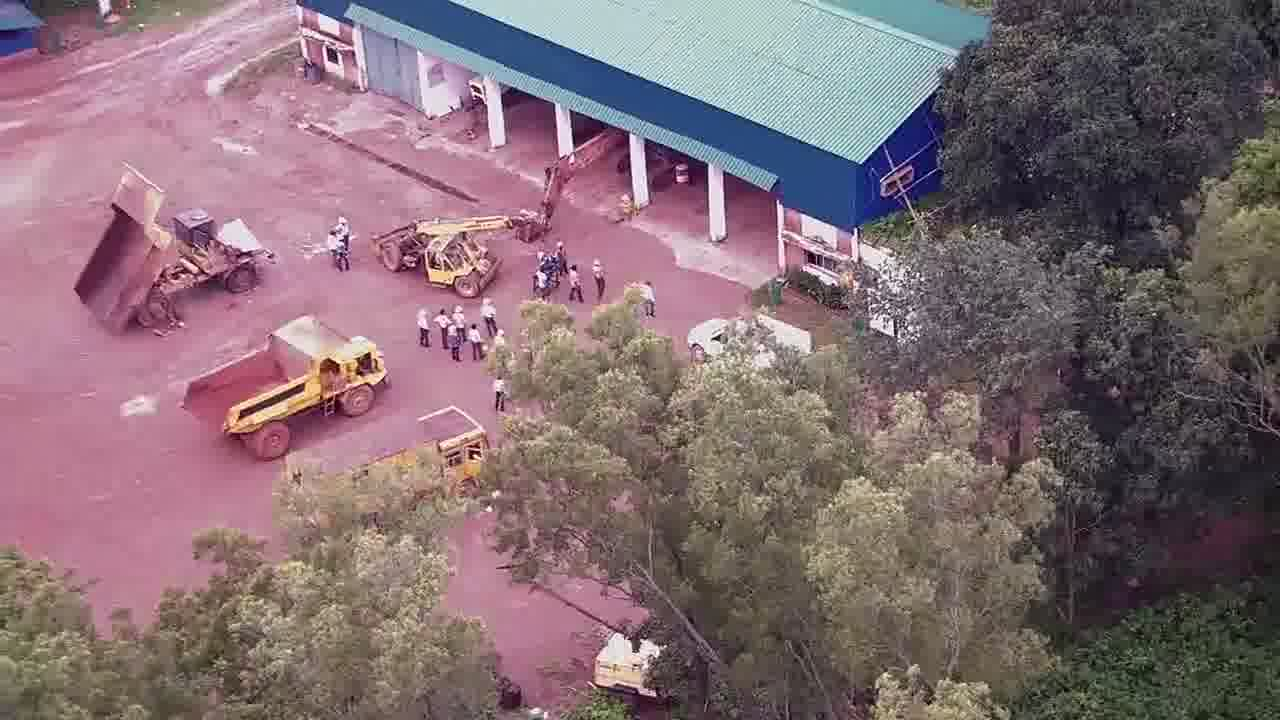HMV: (178, 299, 392, 479), (63, 168, 259, 327), (289, 398, 486, 537), (371, 214, 505, 299)
LMV: (692, 296, 813, 378)
Person: (415, 304, 430, 354), (436, 306, 450, 354), (480, 296, 497, 335), (591, 256, 606, 300), (335, 236, 351, 276), (453, 303, 467, 345), (326, 227, 339, 272), (336, 215, 351, 253), (534, 267, 548, 302), (643, 279, 655, 319), (448, 324, 460, 364), (494, 375, 505, 415), (569, 266, 580, 303), (557, 243, 568, 280), (470, 324, 481, 361)
